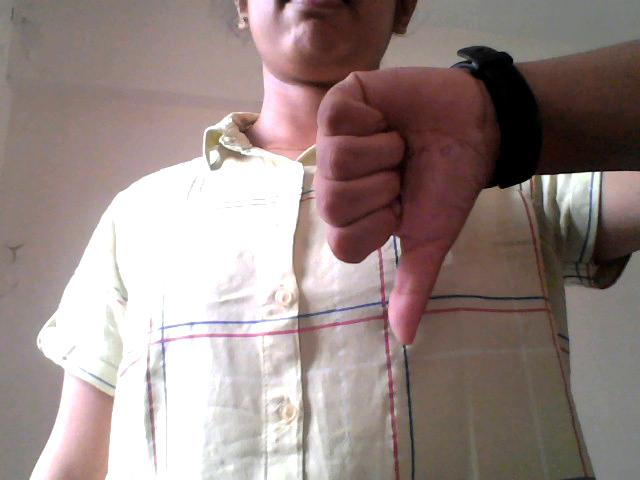thumbs-down: (284, 47, 543, 347)
